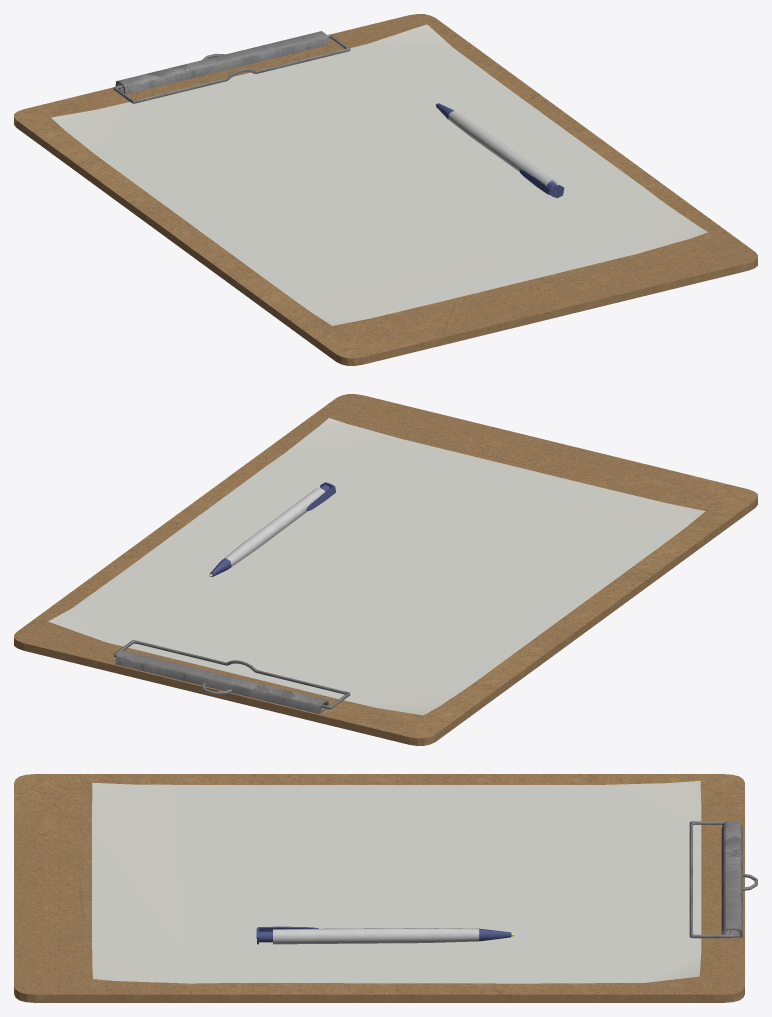
File: clipboard_with_pen_and_paper_low-poly.glb
The picture shows the model from 3 angles, top to bottom: view 1: azimuth 30°, elevation 25°; view 2: azimuth 150°, elevation 25°; view 3: azimuth 270°, elevation 25°; orthographic projection. The views are drawn at different scales.
Parts seen in each view (by area): view 1: paper, clipboard, pen; view 2: paper, clipboard, pen; view 3: paper, clipboard, pen.
Boxes of the visible parts, x1,y1,x2,y2 form: paper: (51, 24, 707, 325); clipboard: (14, 14, 757, 365); pen: (435, 103, 564, 198); paper: (48, 418, 705, 715); clipboard: (14, 394, 757, 745); pen: (209, 482, 335, 576); paper: (92, 780, 701, 983); clipboard: (14, 774, 757, 1002); pen: (256, 926, 514, 944).
Size of the model in its own units: 0.24 by 0.0123 by 0.3419.
Materials: 1 (1 with a texture image).
